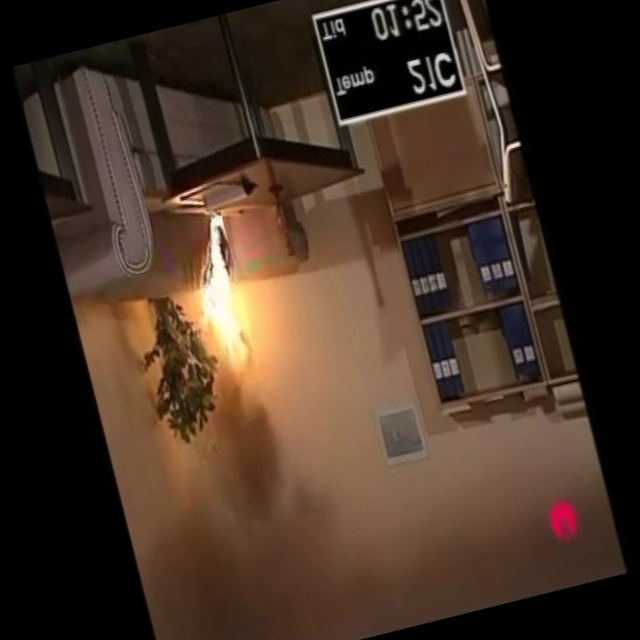fire: (176, 208, 276, 370)
